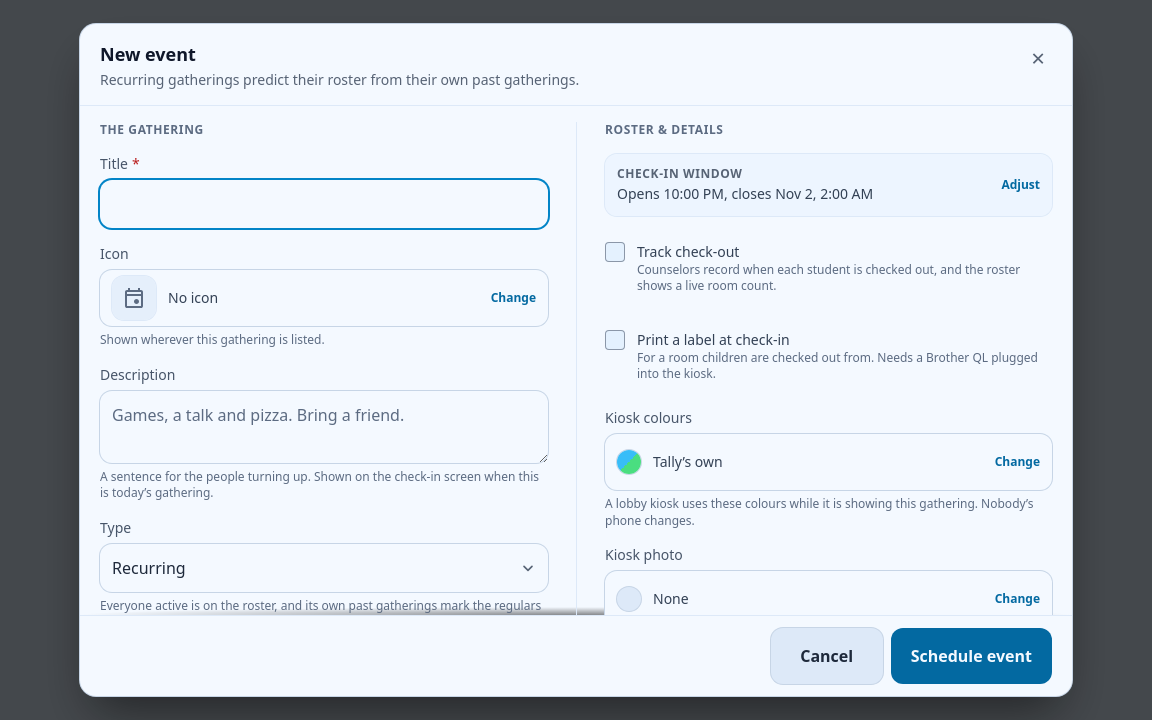
Scenario: EventEditorModal: a submit the form refuses › moves the caret to the field that is wrong and says so beside the button
Click the button "Schedule event" at (971, 656), box [891, 628, 1052, 684]
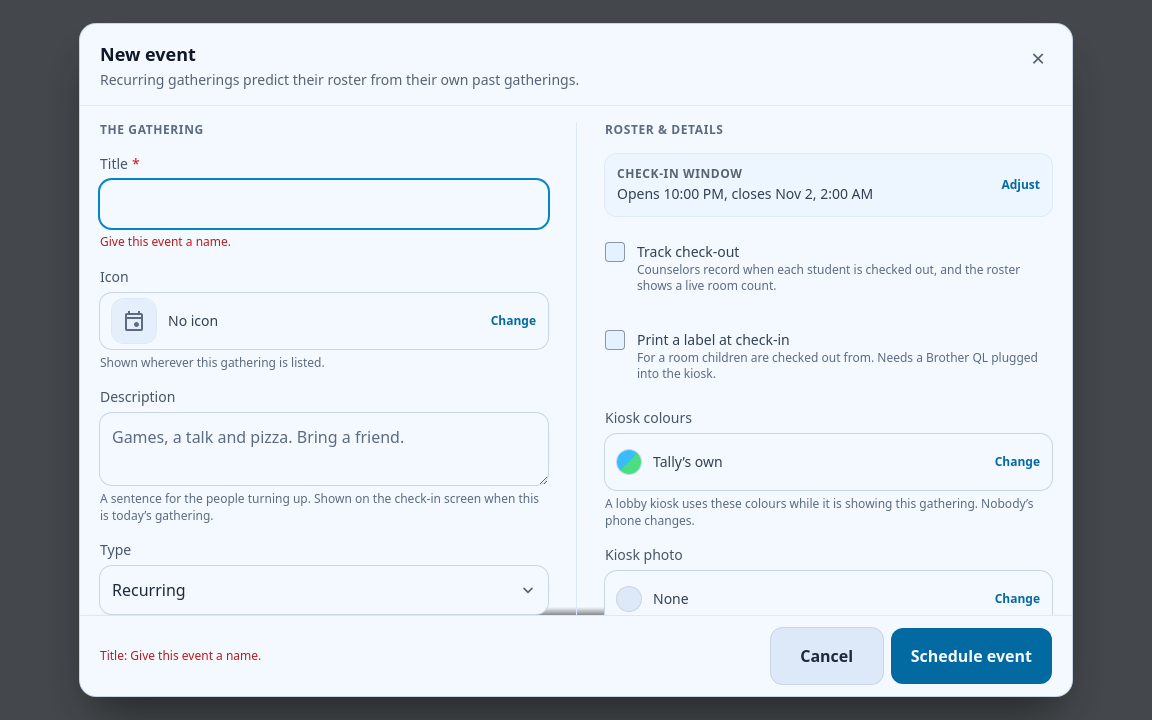
Check: the message reads "Title: Give this event a name.", box [100, 647, 261, 664]
